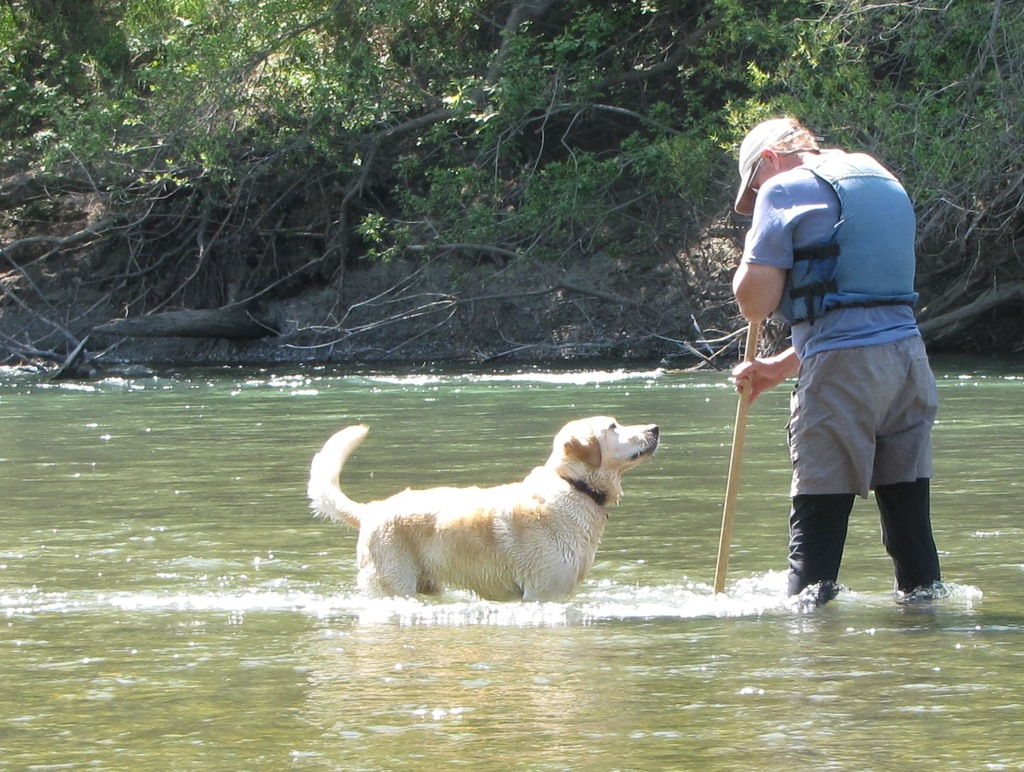Tree: (0, 0, 1023, 370)
